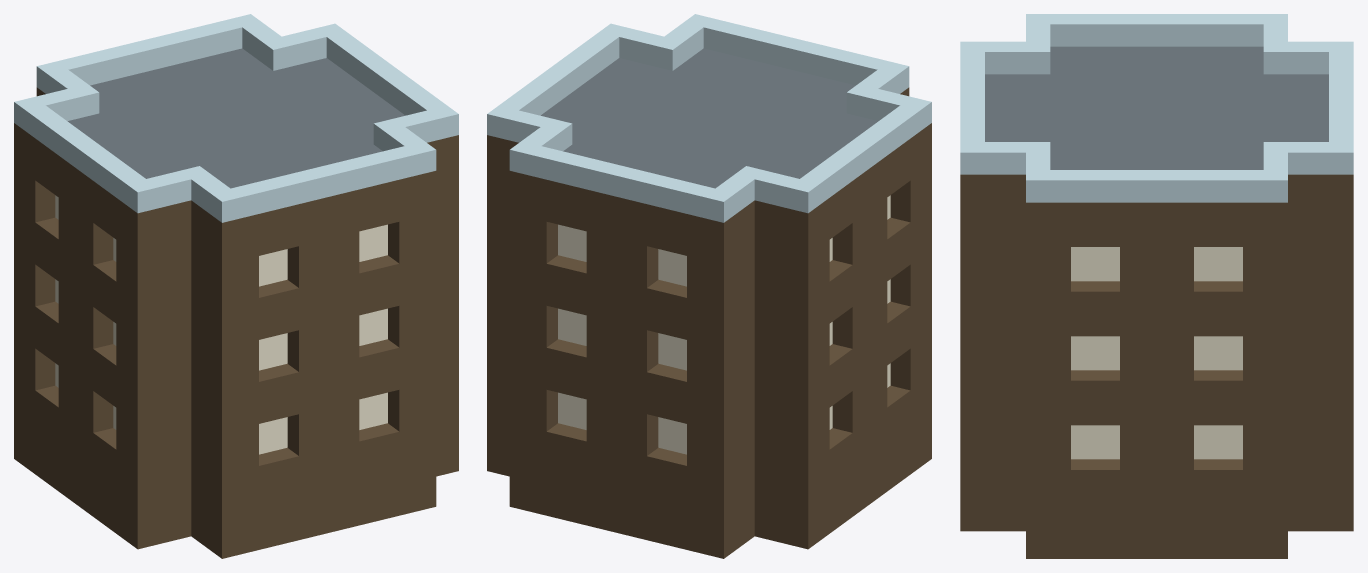
File: Building_4 (Brown).obj
3 renders of one model, left to right at view 1: azimuth 30°, elevation 25°; view 2: azimuth 150°, elevation 25°; view 3: azimuth 270°, elevation 25°, orthographic. The views are drawn at different scales.
Parts seen in each view (by area): view 1: Building_4_(Brown); view 2: Building_4_(Brown); view 3: Building_4_(Brown).
Part boxes in pixels (box(x1,y1,x2,y2)): Building_4_(Brown): box(14, 14, 458, 558); Building_4_(Brown): box(487, 14, 931, 558); Building_4_(Brown): box(960, 14, 1353, 558).
Bounding box in the file's own units: 1.6 × 1.7 × 1.6.
